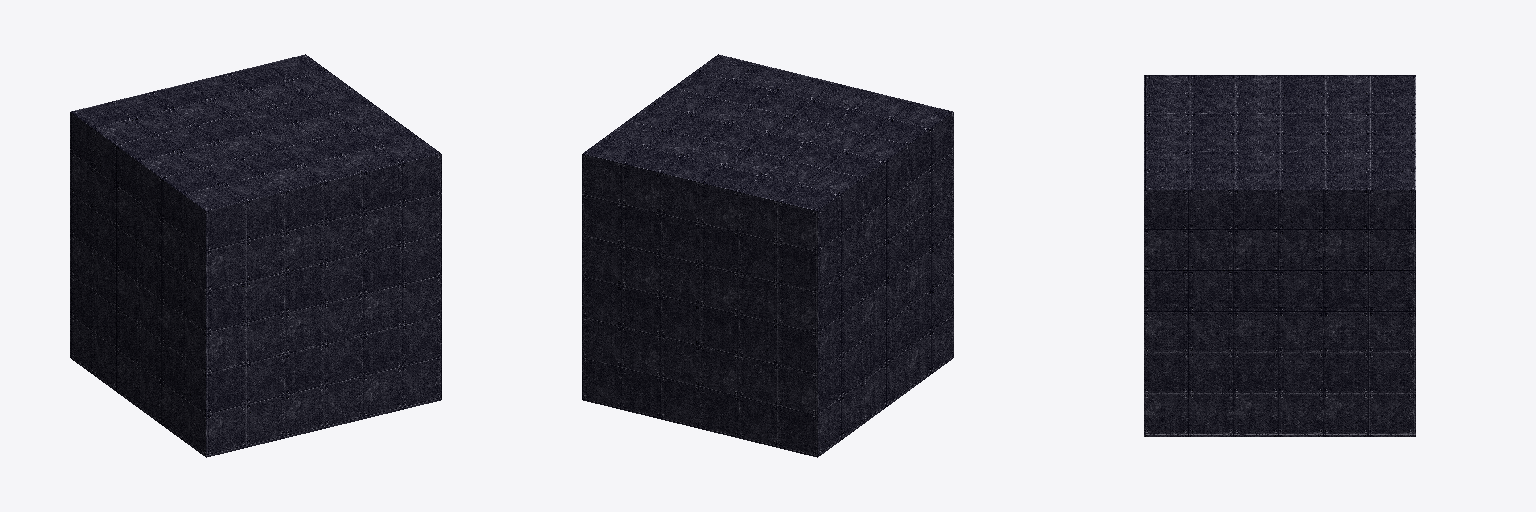
3 renders of one model, left to right at view 1: azimuth 30°, elevation 25°; view 2: azimuth 150°, elevation 25°; view 3: azimuth 270°, elevation 25°, orthographic.
Visible parts, largest first — view 1: pCube1; view 2: pCube1; view 3: pCube1.
Boxes of the visible parts, x1,y1,x2,y2 form: pCube1: [70, 54, 441, 457]; pCube1: [582, 54, 953, 457]; pCube1: [1144, 75, 1415, 436].
Bounding box in the file's own units: 1 × 1 × 1.
Materials: 1 (1 with a texture image).